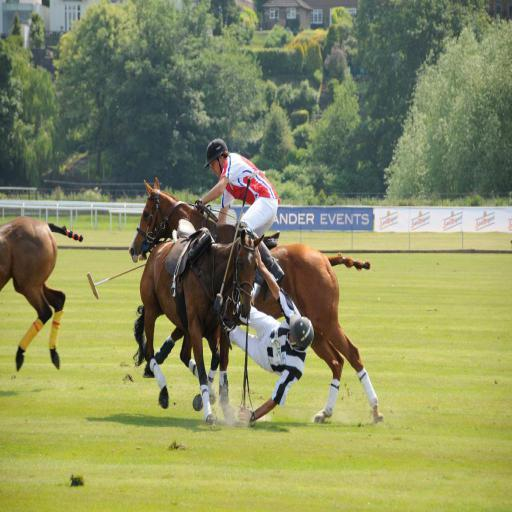Horse: (181, 244, 385, 426), (129, 175, 238, 404), (0, 218, 85, 374)
